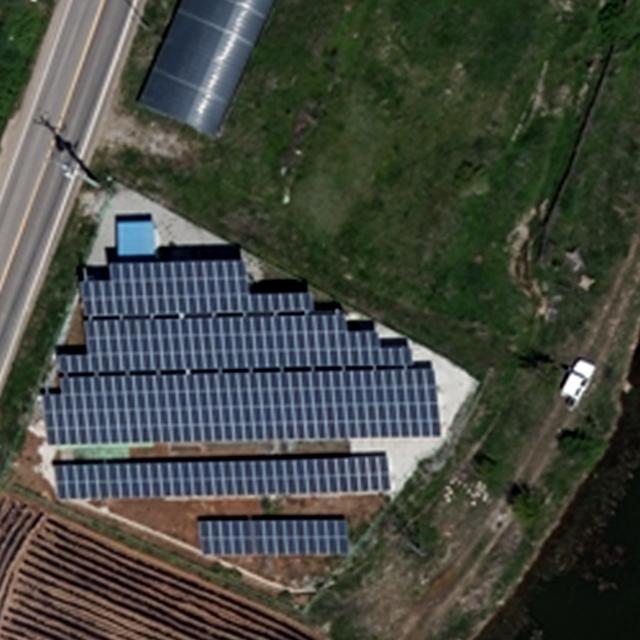panel: (38, 367, 445, 450), (52, 315, 416, 368), (51, 451, 394, 496), (76, 259, 314, 315), (194, 512, 352, 556)
